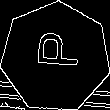P_W: (30, 37, 81, 77)
